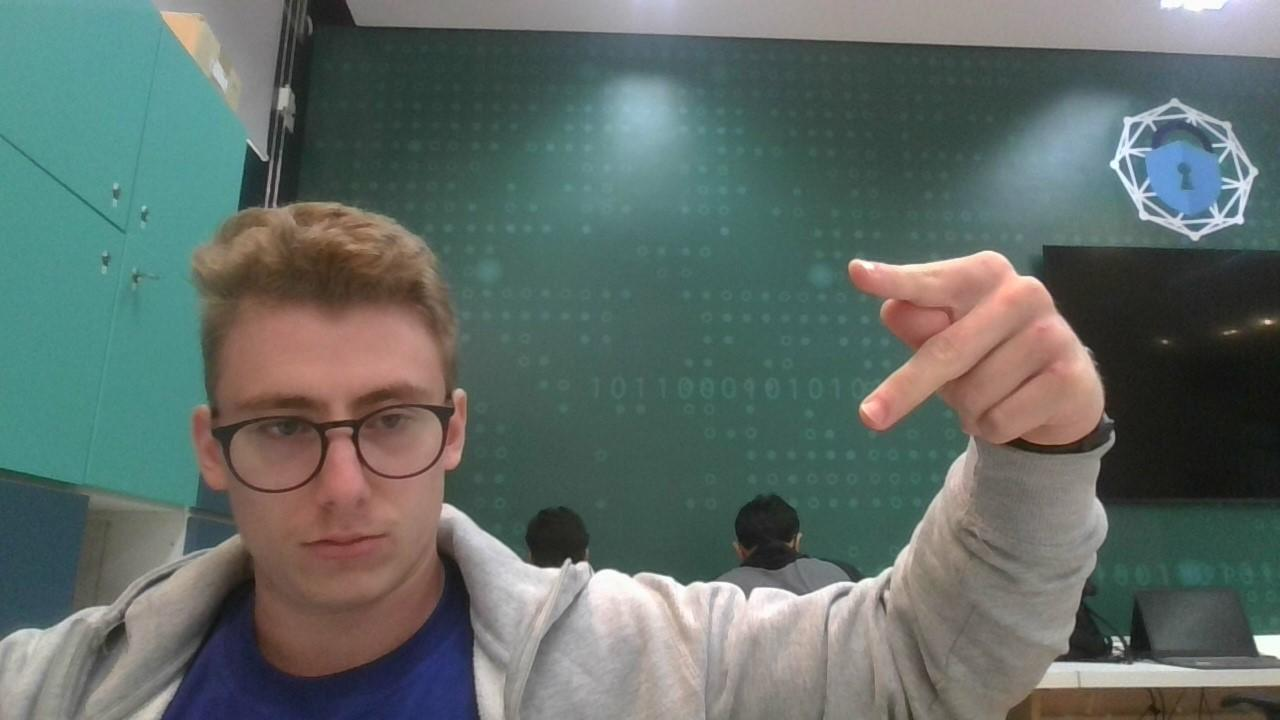P: (844, 238, 1096, 456)
